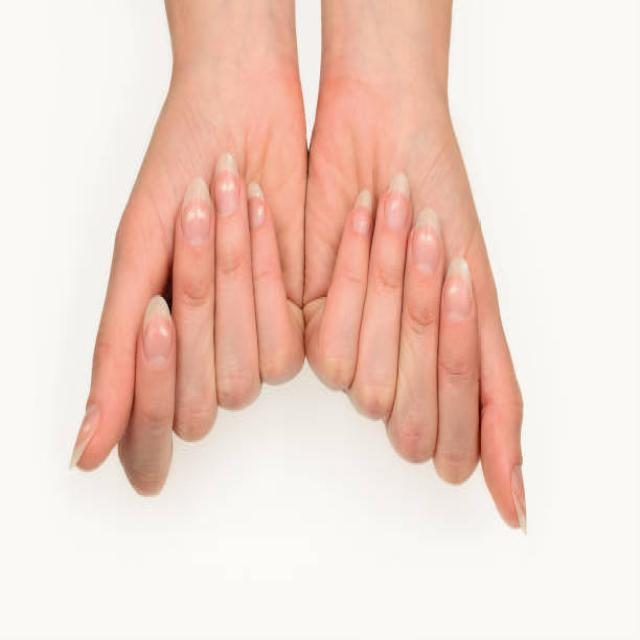Nail: (142, 295, 173, 366), (182, 177, 210, 246), (443, 259, 472, 322), (414, 206, 441, 273), (71, 407, 100, 469), (214, 152, 238, 216), (384, 173, 411, 228), (512, 465, 528, 535), (351, 188, 371, 238), (247, 182, 265, 228)
